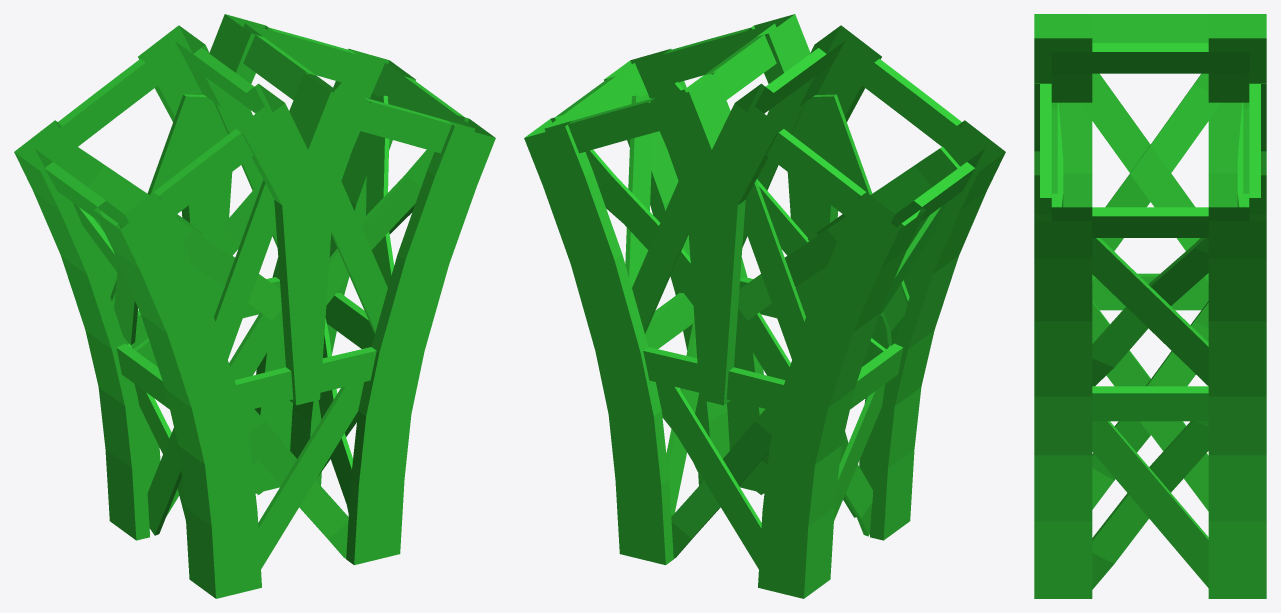
The model's file is arrivalP2.fbx.
3 renders of one model, left to right at view 1: azimuth 30°, elevation 25°; view 2: azimuth 150°, elevation 25°; view 3: azimuth 270°, elevation 25°, orthographic. The views are drawn at different scales.
Parts seen in each view (by area): view 1: arrivalP2; view 2: arrivalP2; view 3: arrivalP2.
Part boxes in pixels (bbox=[...]): arrivalP2: bbox=[14, 14, 495, 598]; arrivalP2: bbox=[524, 14, 1005, 598]; arrivalP2: bbox=[1034, 14, 1266, 598].
Bounding box in the file's own units: 1.39 × 1.69 × 0.68.
